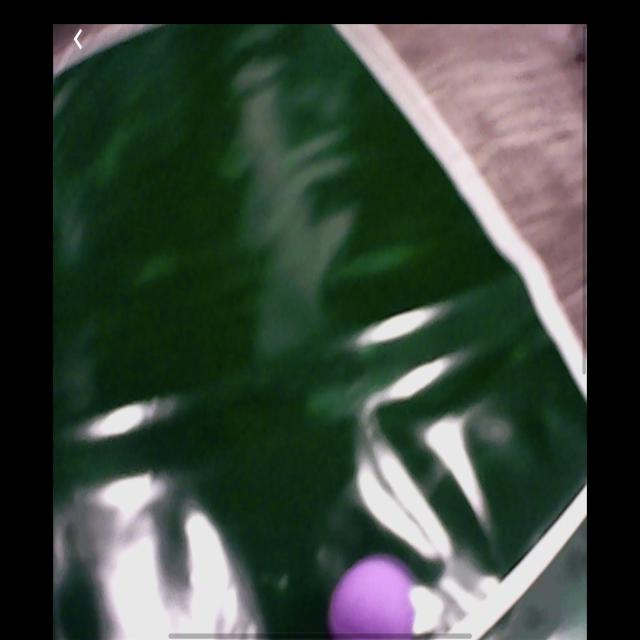ball: (328, 554, 419, 638)
